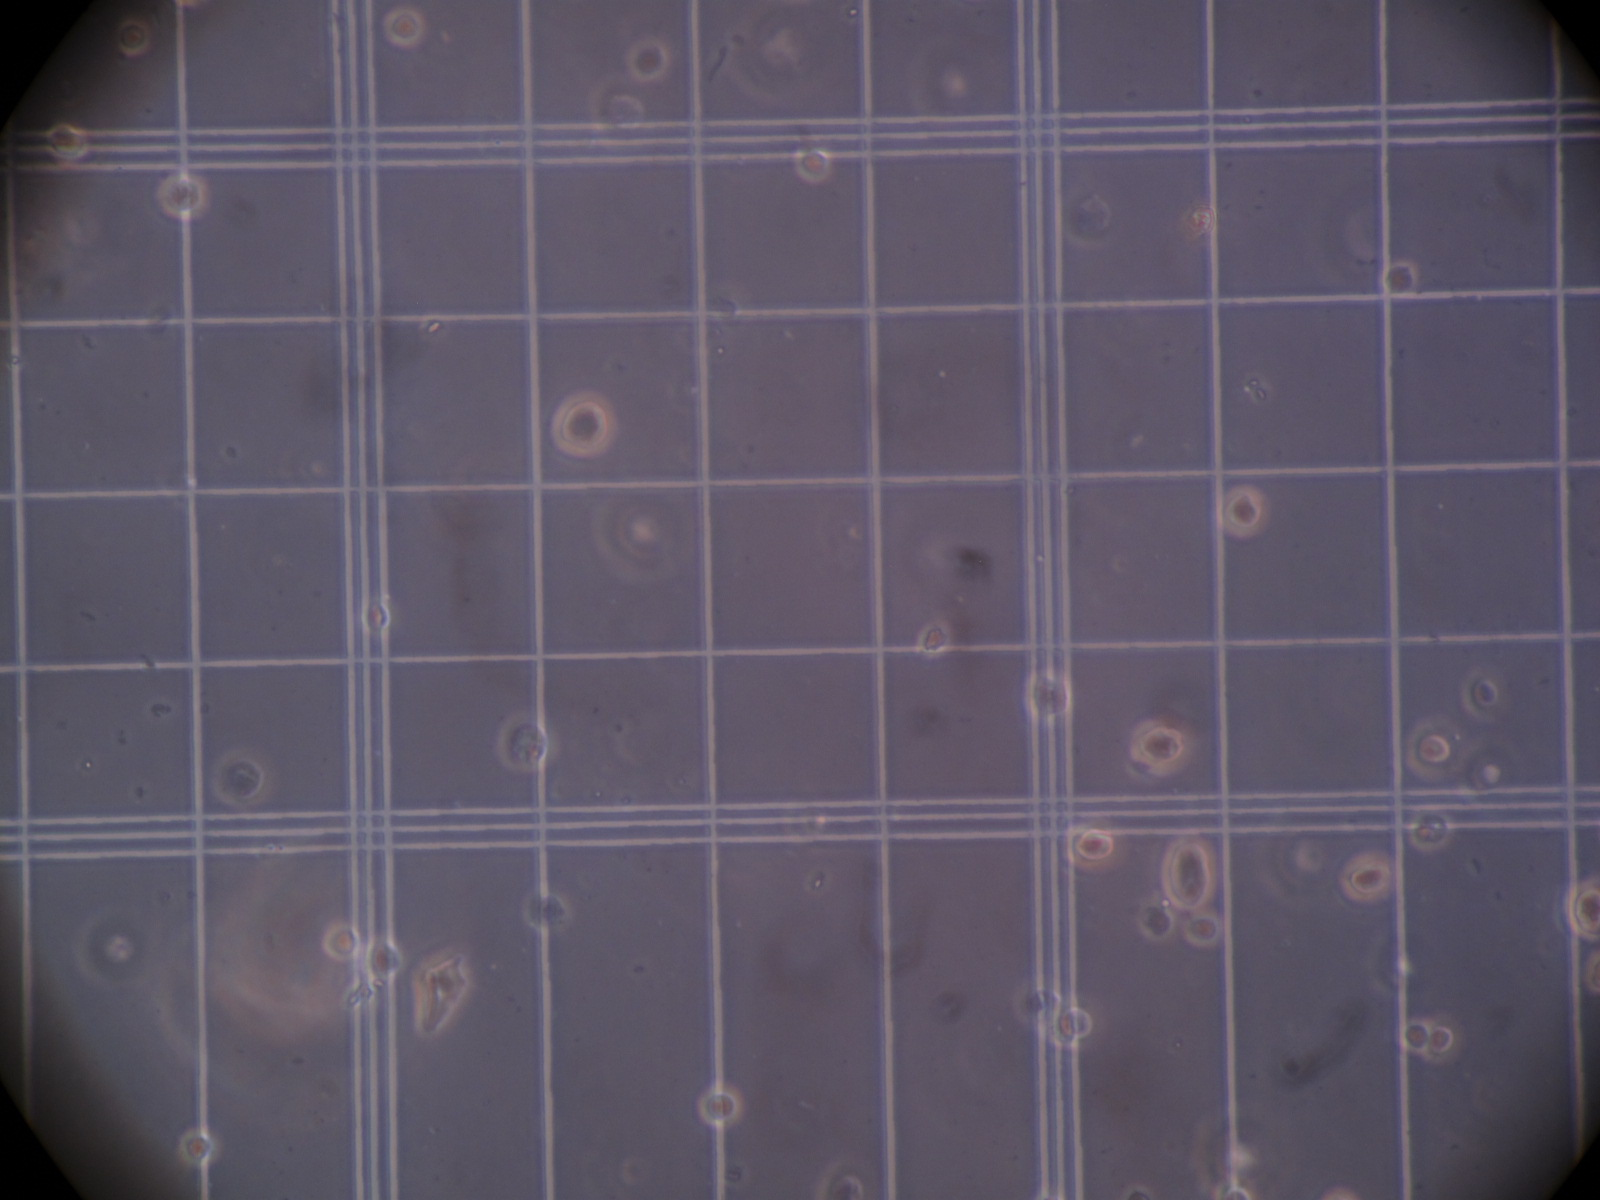hemo: (1191, 1109, 1255, 1191), (551, 389, 615, 458), (1162, 834, 1214, 911), (495, 712, 558, 773), (1405, 713, 1456, 780), (214, 750, 268, 807), (1340, 851, 1393, 905), (1130, 722, 1186, 774), (1458, 666, 1507, 724), (1214, 484, 1265, 538), (1063, 824, 1117, 871), (157, 175, 210, 221), (818, 1160, 877, 1200), (1049, 1000, 1094, 1050), (522, 887, 572, 932), (1424, 1011, 1461, 1066), (698, 1084, 745, 1128), (1409, 807, 1451, 853), (1026, 674, 1070, 718), (365, 938, 406, 981), (625, 42, 668, 82), (43, 124, 87, 161), (382, 8, 425, 45), (1183, 909, 1221, 949), (323, 921, 360, 962), (179, 1128, 215, 1167), (792, 146, 831, 182), (1382, 260, 1417, 297), (916, 621, 951, 657), (1398, 1018, 1430, 1056)
